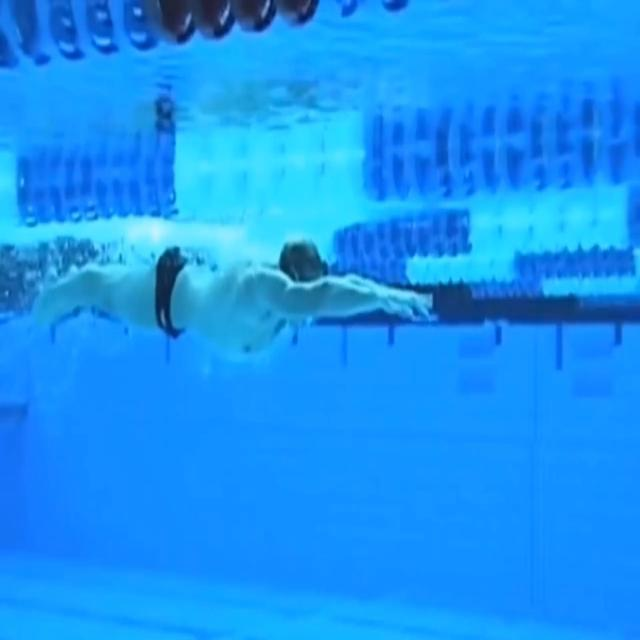Swimming: (38, 237, 433, 361)
